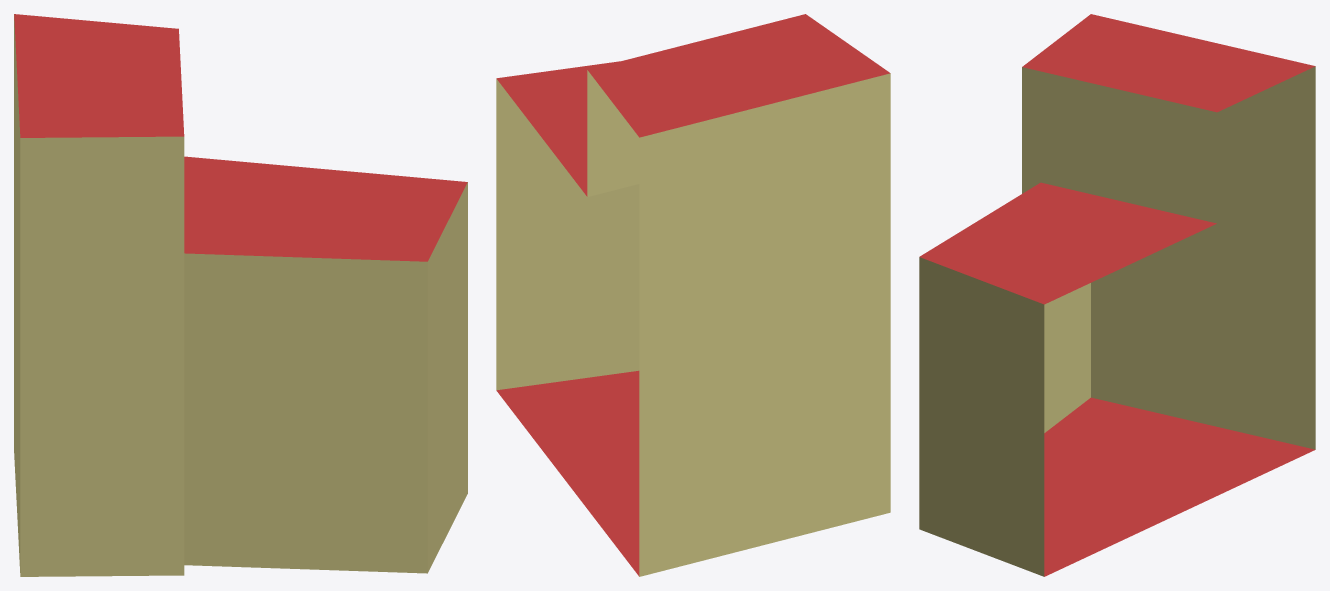
3 views of the same model, side by side, from view 1: azimuth 30°, elevation 25°; view 2: azimuth 150°, elevation 25°; view 3: azimuth 270°, elevation 25° (orthographic). The views are drawn at different scales.
Size of the model in its own units: 8.94 by 8.35 by 8.91.
